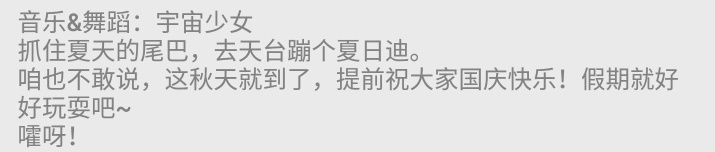TextView: (1, 1, 714, 151)
